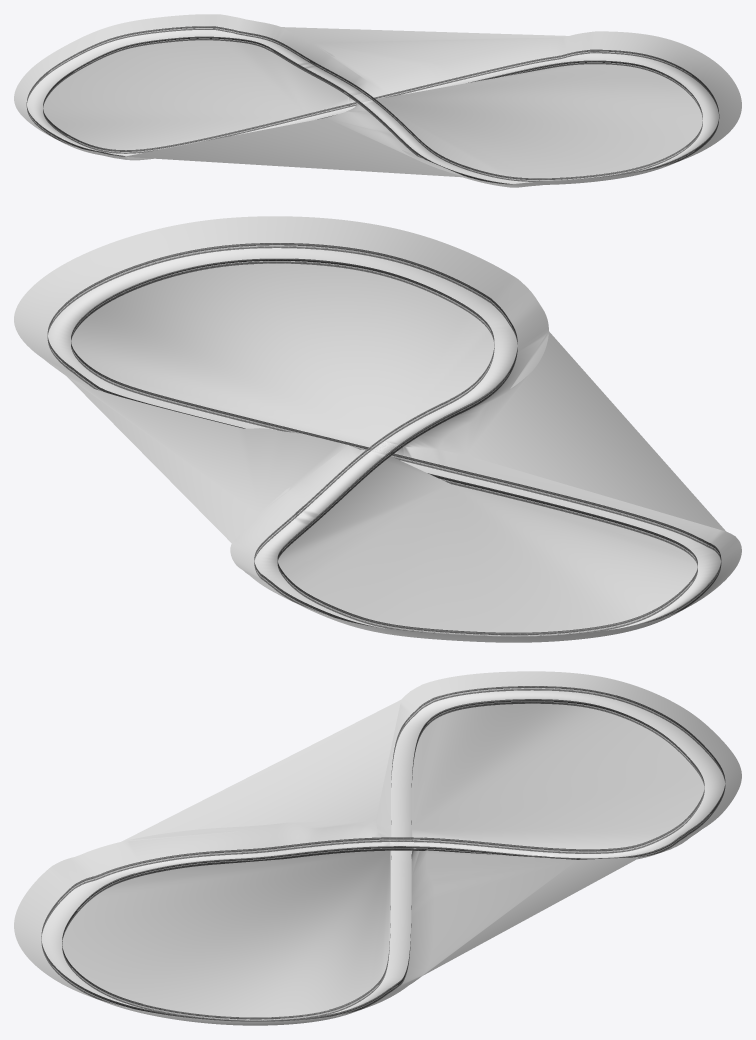
File: Track.fbx
3 renders of one model, top to bottom at view 1: azimuth 30°, elevation 25°; view 2: azimuth 150°, elevation 25°; view 3: azimuth 270°, elevation 25°, orthographic. The views are drawn at different scales.
Visible parts, largest first — view 1: Grass, Fence, Road; view 2: Grass, Road, Fence; view 3: Grass, Road, Fence.
Boxes of the visible parts, x1,y1,x2,y2 form: Grass: [14, 14, 741, 187]; Fence: [26, 26, 719, 184]; Road: [27, 30, 718, 183]; Grass: [14, 216, 741, 642]; Road: [48, 248, 720, 630]; Fence: [47, 243, 721, 636]; Grass: [14, 671, 741, 1025]; Road: [41, 690, 725, 1015]; Fence: [41, 686, 725, 1021].
Bounding box in the file's own units: 24427 × 691 × 21138.
